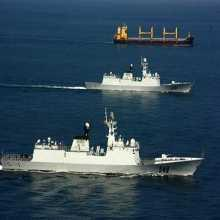otherboat: (112, 21, 195, 48)
warship: (1, 118, 198, 176), (83, 56, 193, 94)
